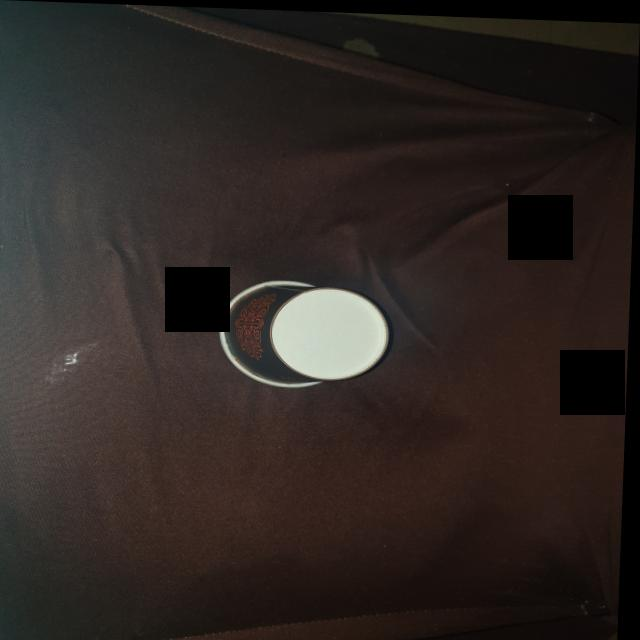cups: (205, 268, 403, 404)
